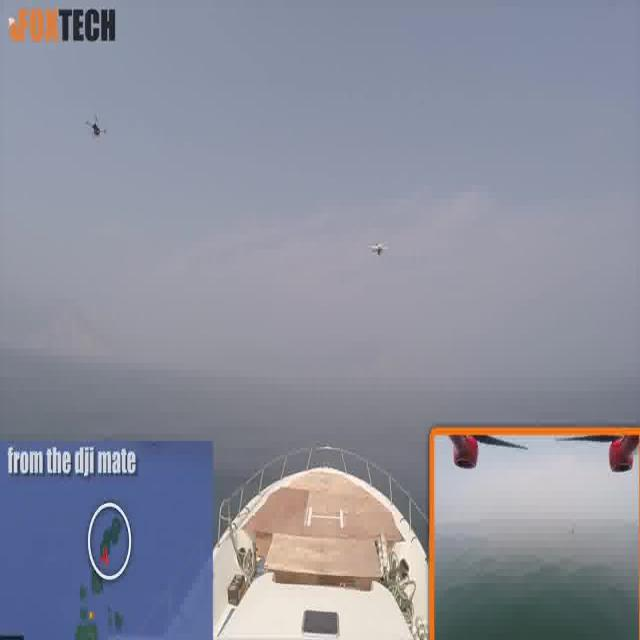drone: (369, 232, 391, 265)
